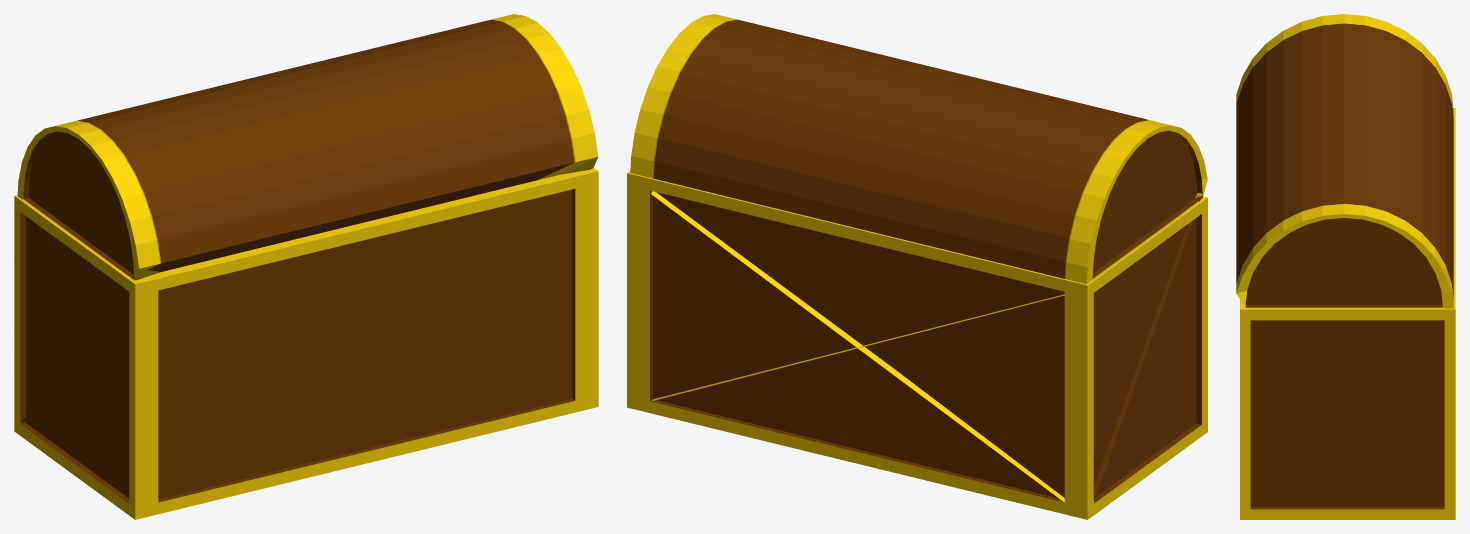
File: chest1.fbx
3 views of the same model, side by side, from view 1: azimuth 30°, elevation 25°; view 2: azimuth 150°, elevation 25°; view 3: azimuth 270°, elevation 25° (orthographic). The views are drawn at different scales.
Parts seen in each view (by area): view 1: Cube; view 2: Cube; view 3: Cube.
Boxes of the visible parts, left/top/right/bottom form: Cube: left=14, top=14, right=598, bottom=519; Cube: left=627, top=14, right=1207, bottom=519; Cube: left=1236, top=14, right=1455, bottom=519.
Size of the model in its own units: 435 by 306 by 199.
Materials: 1 (1 with a texture image).
